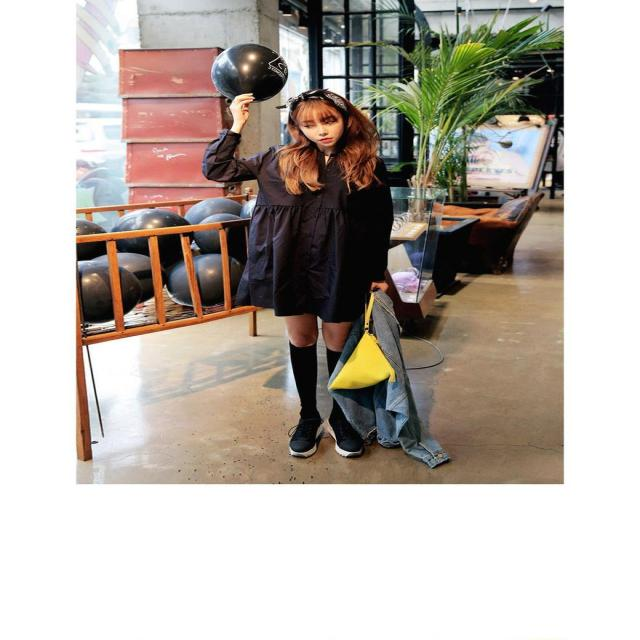long sleeve dress: (202, 131, 393, 315)
